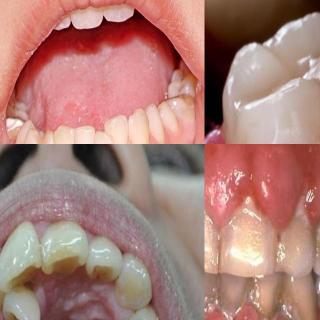Gum Swelling: (204, 165, 320, 227)
calculus: (229, 204, 273, 256), (250, 280, 280, 320), (217, 286, 249, 320), (283, 295, 317, 320), (290, 198, 310, 236), (205, 278, 222, 320), (312, 210, 320, 268)
cavities: (162, 91, 196, 115)
maligned: (0, 222, 44, 296), (2, 284, 60, 320), (92, 131, 116, 144)
plaque: (285, 86, 320, 143)
